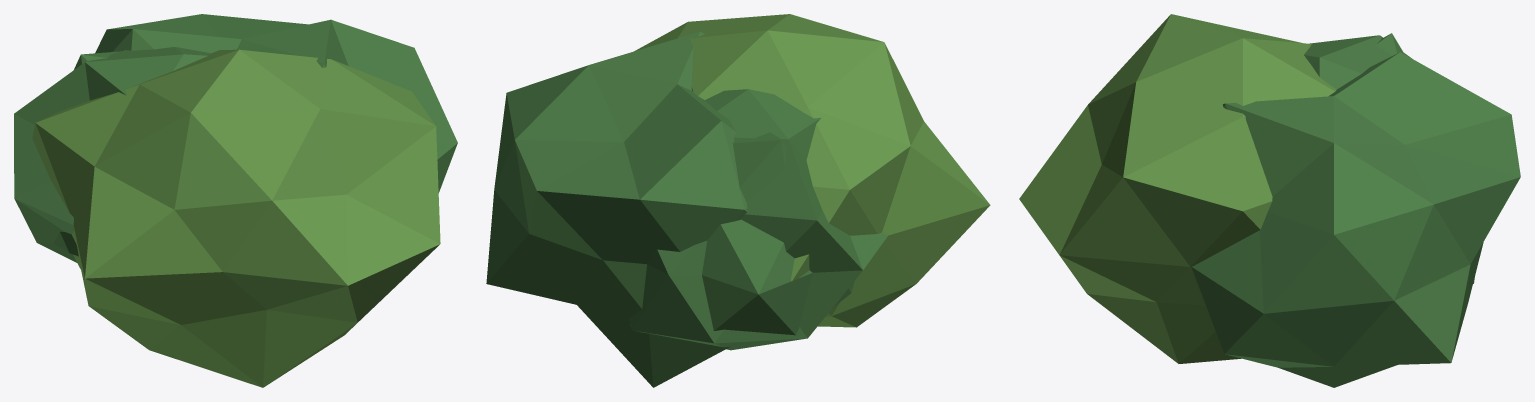
Rendered from Bush_1.fbx.
3 renders of one model, left to right at view 1: azimuth 30°, elevation 25°; view 2: azimuth 150°, elevation 25°; view 3: azimuth 270°, elevation 25°, orthographic. The views are drawn at different scales.
Parts seen in each view (by area): view 1: Bush_1; view 2: Bush_1; view 3: Bush_1.
Part boxes in pixels (<box>): Bush_1: <box>14,14,457,387</box>; Bush_1: <box>486,14,990,387</box>; Bush_1: <box>1019,14,1520,387</box>.
Bounding box in the file's own units: 2.2 × 2.22 × 1.59.
